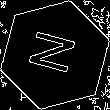N_E: (25, 29, 85, 81)
